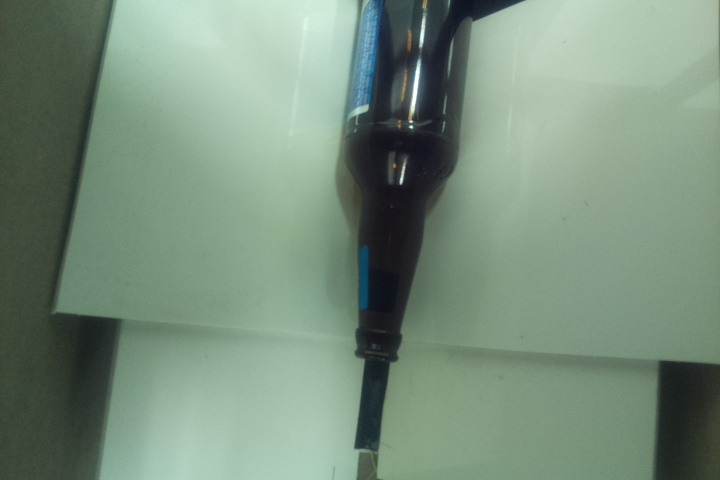makju: (339, 1, 476, 365)
